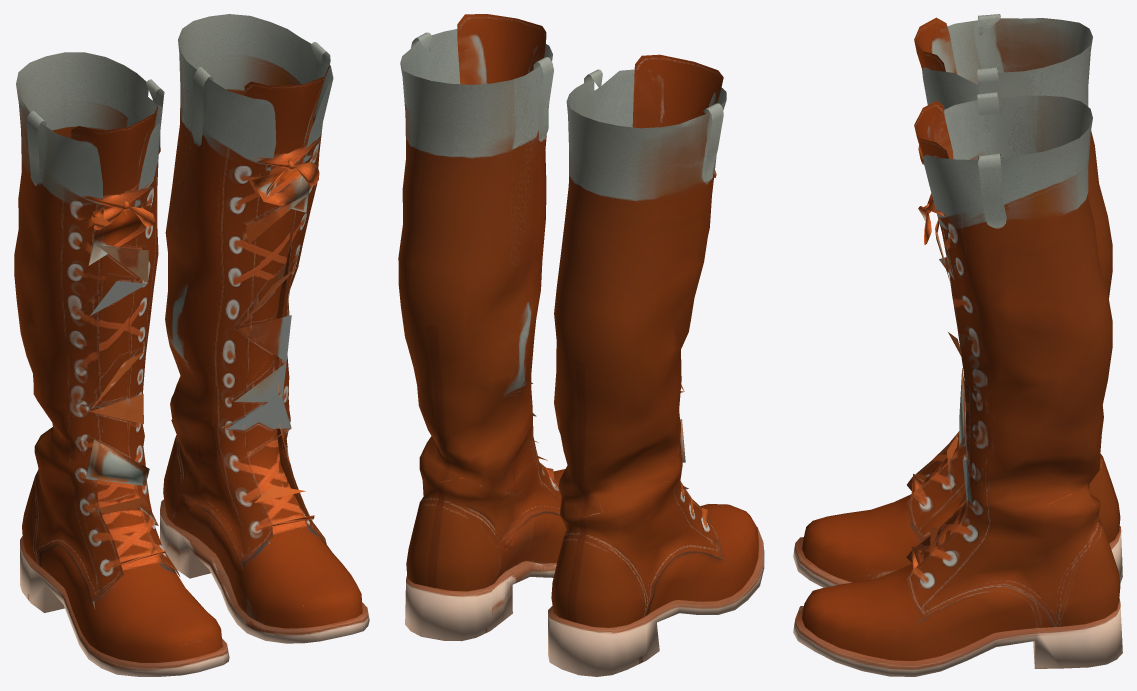
File: ranger-boots_refine.glb
3 views of the same model, side by side, from view 1: azimuth 30°, elevation 25°; view 2: azimuth 150°, elevation 25°; view 3: azimuth 270°, elevation 25° (orthographic). The views are drawn at different scales.
Size of the model in its own units: 0.5513 by 0.9512 by 0.5283.
1 material, 1 textured.
